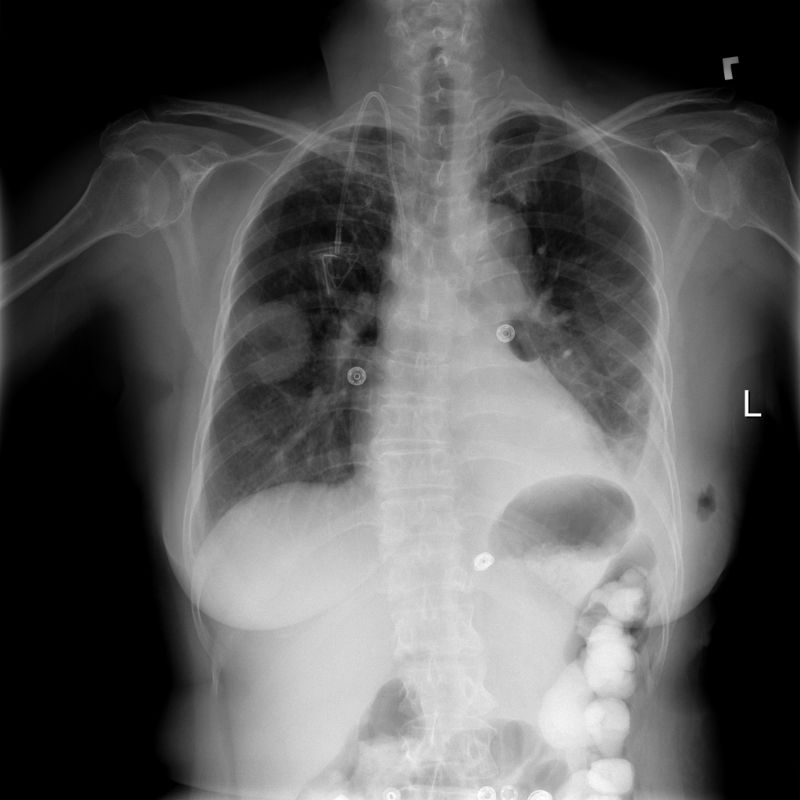PLEURAL EFFUSION: (601, 374, 676, 534)
